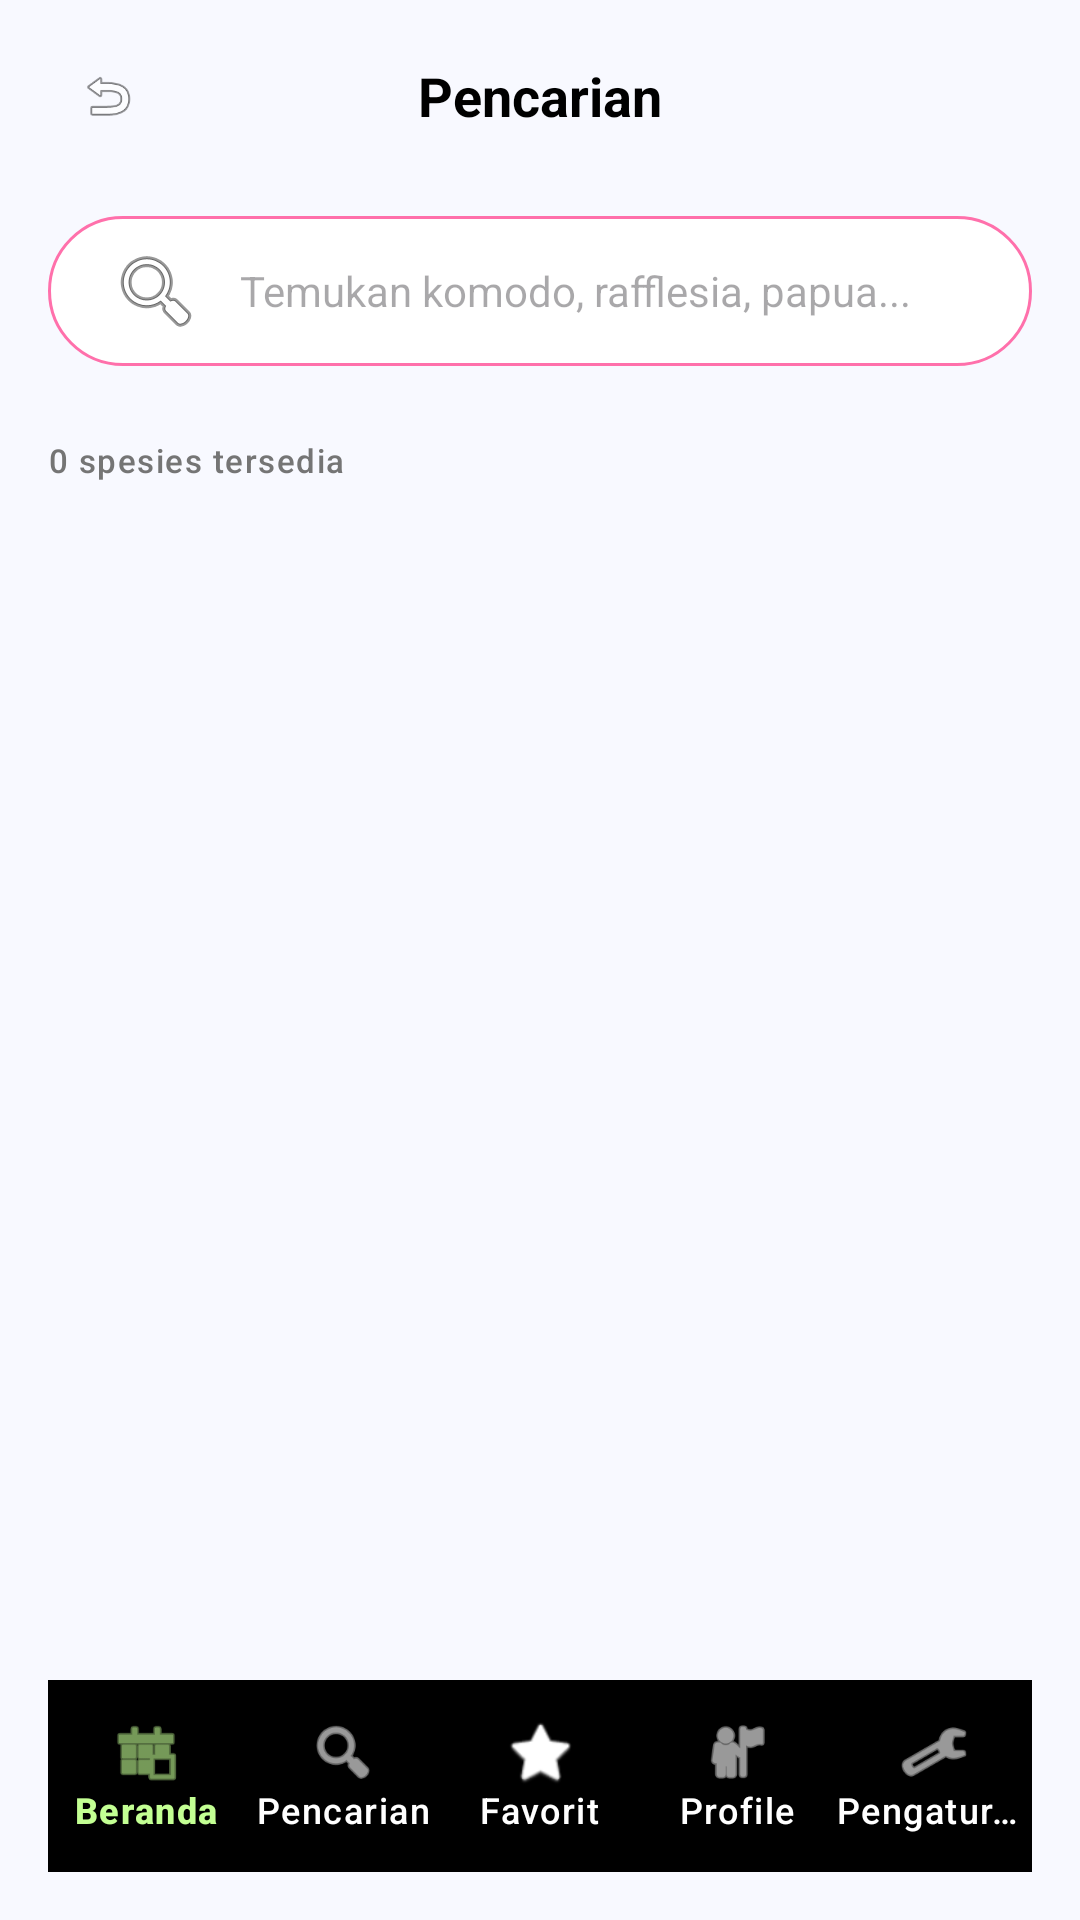

Locate icon controls on the screen. Image size 1080x1920, boxes as (x1, y1, x2, y2).
revert: (87, 77, 131, 116)
